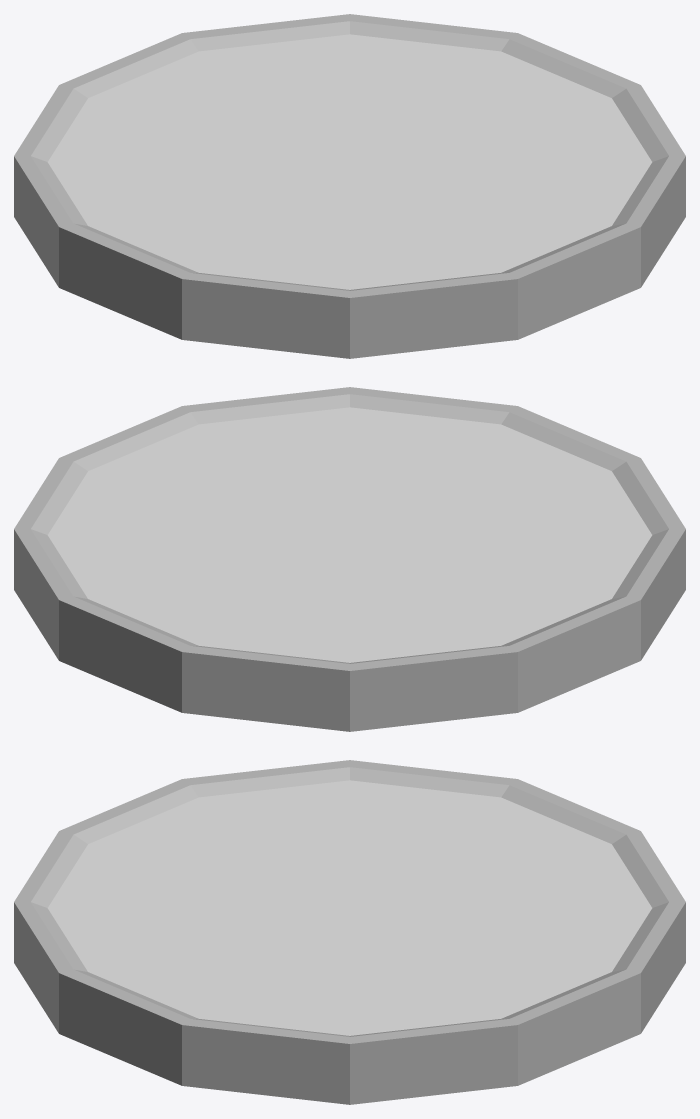
Rendered from Coin.fbx.
3 views of the same model, one above another, from view 1: azimuth 30°, elevation 25°; view 2: azimuth 150°, elevation 25°; view 3: azimuth 270°, elevation 25° (orthographic).
Visible parts, largest first — view 1: Coin; view 2: Coin; view 3: Coin.
Boxes of the visible parts, bbox=[...] form: Coin: bbox=[14, 14, 685, 358]; Coin: bbox=[14, 387, 685, 731]; Coin: bbox=[14, 760, 685, 1104].
Bounding box in the file's own units: 0.06 × 0.006 × 0.06.
